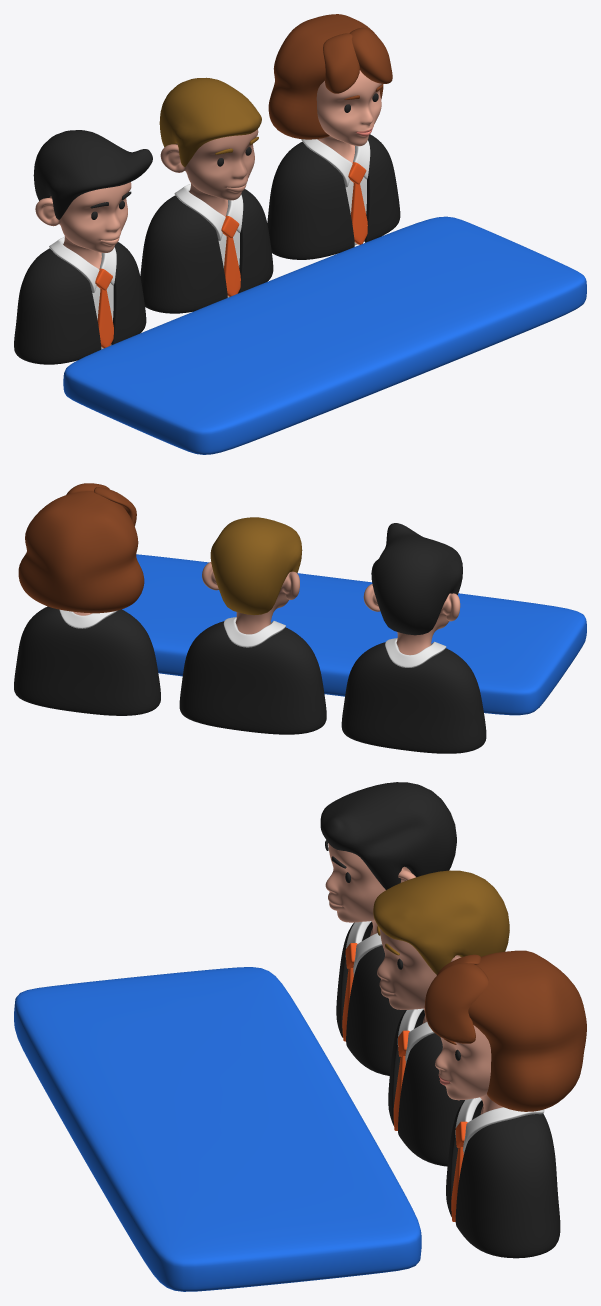
The model's file is board-of-directors-3d-animated-icon-227600877071.glb.
3 renders of one model, top to bottom at view 1: azimuth 30°, elevation 25°; view 2: azimuth 150°, elevation 25°; view 3: azimuth 270°, elevation 25°, orthographic. The views are drawn at different scales.
Visible parts, largest first — view 1: table, suit 3, suit 2, suit 1, hair 3, hair 1, hair 2, body 2, body 1, body 3, cloth 2, cloth 1 (+4 smaller); view 2: table, hair 3, suit 2, suit 3, suit 1, hair 1, hair 2, body 2, body 1, cloth 2, cloth 1, cloth 3; view 3: table, hair 3, suit 3, hair 1, hair 2, suit 2, suit 1, body 1, body 3, body 2, cloth 3, cloth 1 (+3 smaller).
Boxes of the visible parts, x1=… form: table: x1=63, y1=216, x2=586, y2=454; suit 3: x1=267, y1=134, x2=400, y2=259; suit 2: x1=140, y1=189, x2=273, y2=313; suit 1: x1=14, y1=242, x2=146, y2=364; hair 3: x1=268, y1=14, x2=392, y2=139; hair 1: x1=33, y1=130, x2=152, y2=219; hair 2: x1=159, y1=77, x2=261, y2=166; body 2: x1=160, y1=129, x2=258, y2=216; body 1: x1=35, y1=182, x2=131, y2=269; body 3: x1=316, y1=70, x2=382, y2=162; cloth 2: x1=174, y1=183, x2=243, y2=297; cloth 1: x1=49, y1=237, x2=116, y2=349; table: x1=122, y1=554, x2=586, y2=715; hair 3: x1=18, y1=483, x2=144, y2=613; suit 2: x1=179, y1=621, x2=326, y2=734; suit 3: x1=14, y1=606, x2=160, y2=715; suit 1: x1=341, y1=642, x2=486, y2=753; hair 1: x1=371, y1=523, x2=462, y2=635; hair 2: x1=210, y1=517, x2=302, y2=615; body 2: x1=202, y1=562, x2=299, y2=634; body 1: x1=363, y1=584, x2=460, y2=655; cloth 2: x1=223, y1=617, x2=285, y2=647; cloth 1: x1=385, y1=638, x2=446, y2=667; cloth 3: x1=59, y1=609, x2=117, y2=628; table: x1=14, y1=967, x2=421, y2=1291; hair 3: x1=424, y1=950, x2=586, y2=1111; suit 3: x1=446, y1=1100, x2=560, y2=1258; hair 1: x1=320, y1=782, x2=456, y2=889; hair 2: x1=373, y1=870, x2=509, y2=974; suit 2: x1=388, y1=1010, x2=464, y2=1166; suit 1: x1=336, y1=922, x2=405, y2=1075; body 1: x1=325, y1=843, x2=415, y2=936; body 3: x1=435, y1=1025, x2=503, y2=1114; body 2: x1=377, y1=929, x2=461, y2=1023; cloth 3: x1=455, y1=1097, x2=544, y2=1154; cloth 1: x1=345, y1=921, x2=382, y2=976.
Size of the model in its own units: 3.09 by 1.3 by 2.51.
